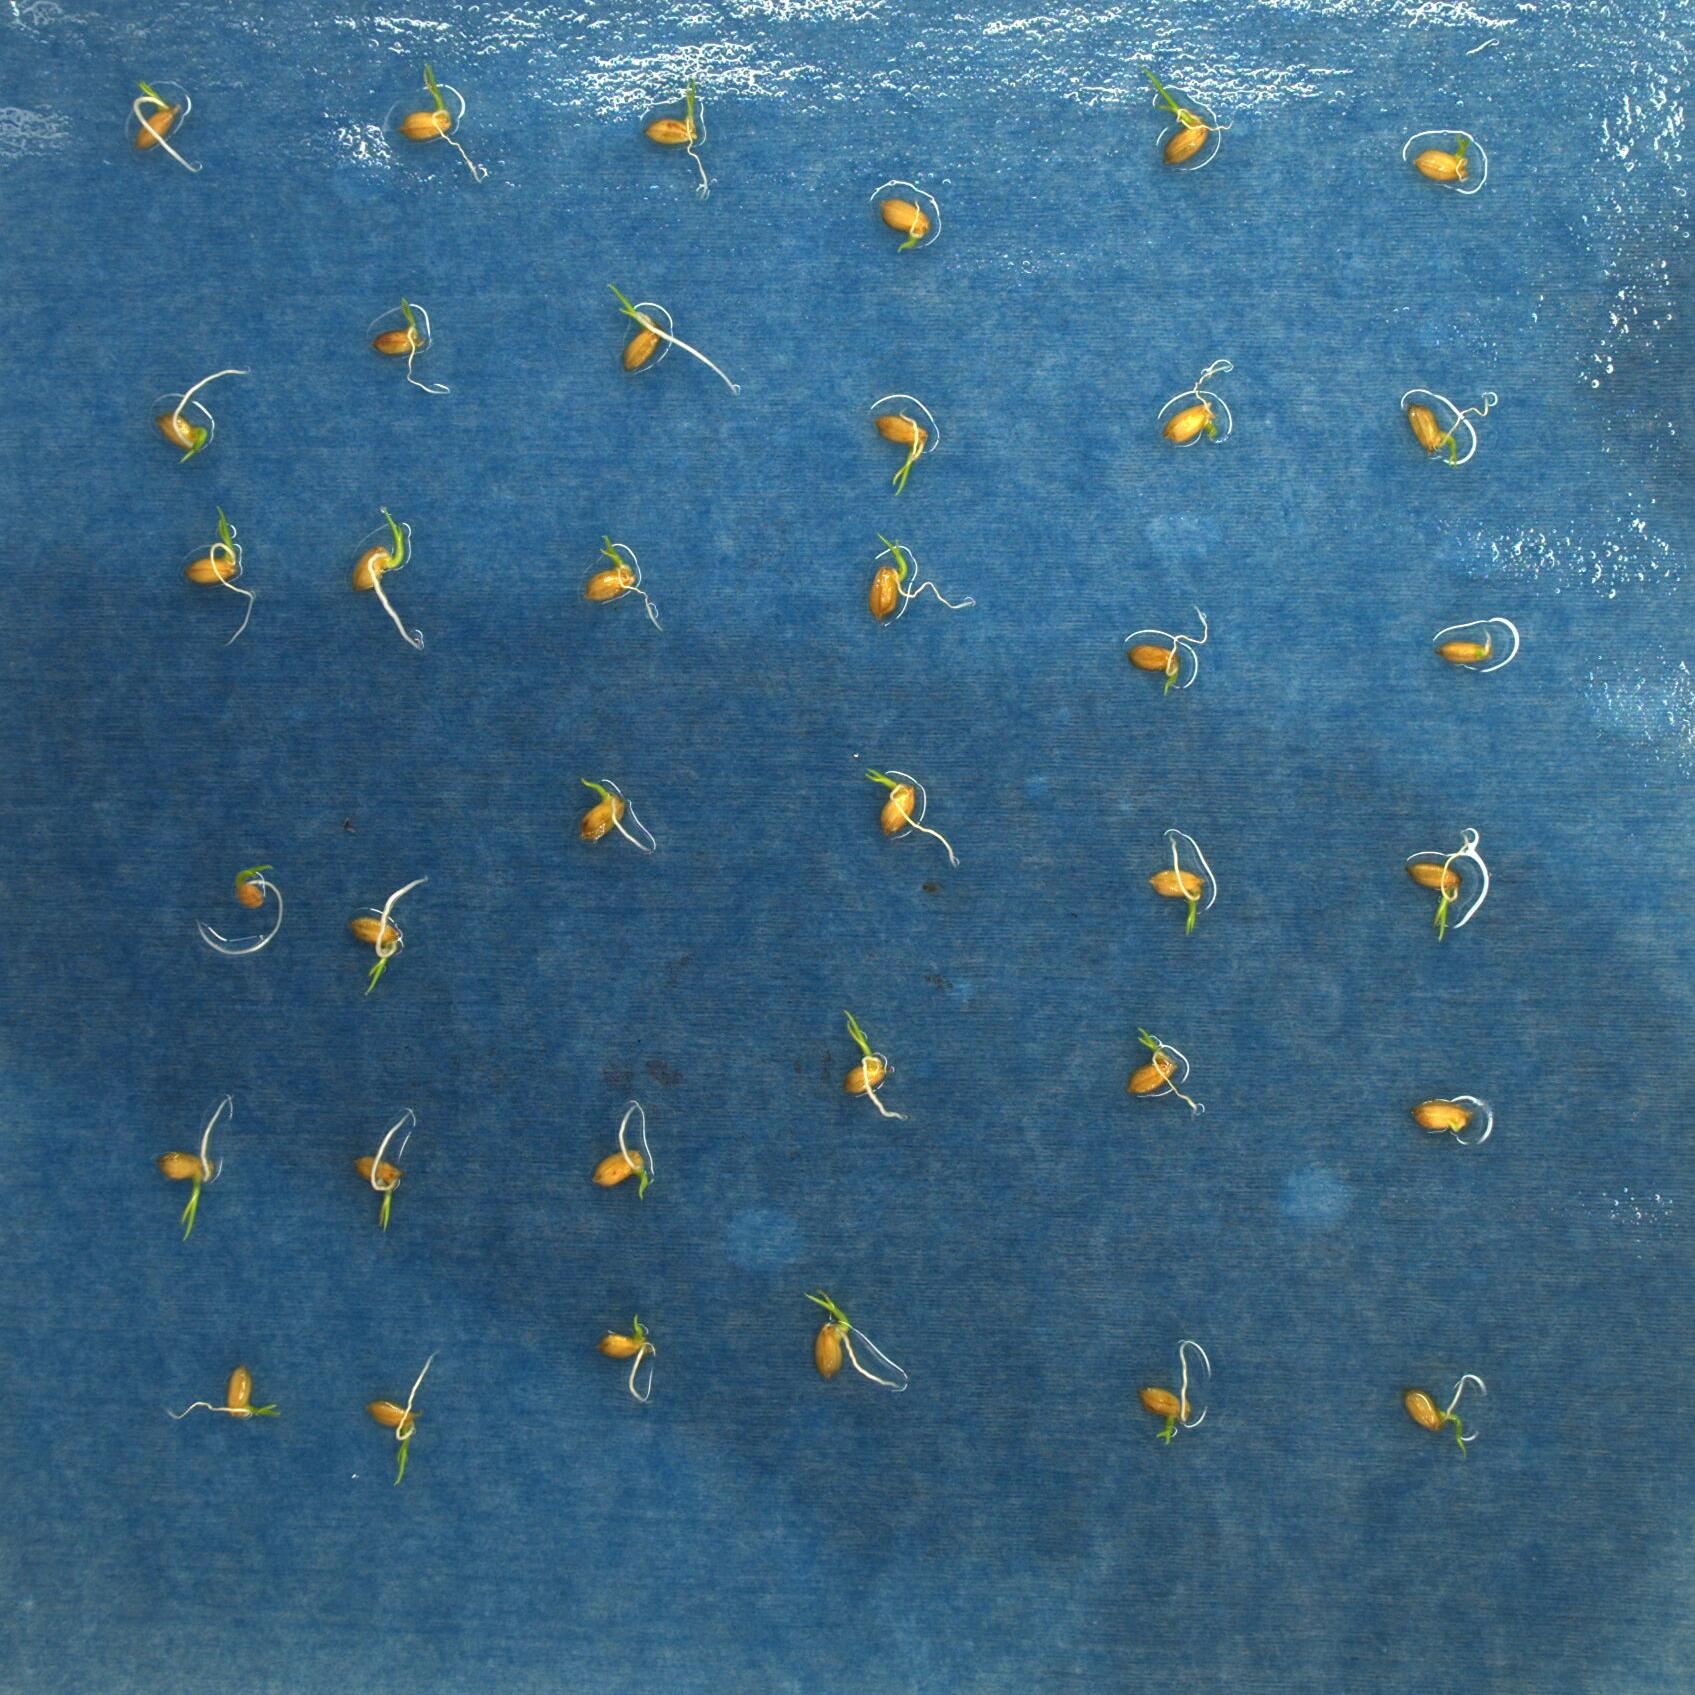not sprout: (169, 1364, 279, 1423), (1159, 359, 1232, 442), (605, 1316, 657, 1403), (1412, 127, 1471, 185), (1439, 619, 1499, 663), (1417, 1097, 1475, 1142)
sprout: (599, 281, 740, 404), (397, 59, 487, 186), (576, 528, 674, 636), (865, 529, 981, 619), (352, 504, 424, 650), (371, 1349, 444, 1487), (183, 509, 255, 647), (355, 875, 438, 992), (160, 1097, 225, 1243), (863, 764, 958, 863), (809, 1291, 905, 1388), (192, 865, 284, 959), (157, 371, 248, 464), (348, 1097, 414, 1225), (1135, 1336, 1209, 1447), (1149, 78, 1236, 171), (376, 295, 452, 396), (1405, 829, 1471, 944), (1128, 599, 1209, 692), (837, 1012, 903, 1124), (1400, 1372, 1485, 1458), (576, 773, 652, 861), (1406, 388, 1496, 463), (653, 82, 708, 200), (132, 81, 197, 179), (587, 1104, 652, 1198), (1133, 1029, 1201, 1114), (869, 408, 927, 498), (1155, 840, 1205, 934), (879, 197, 925, 251)
